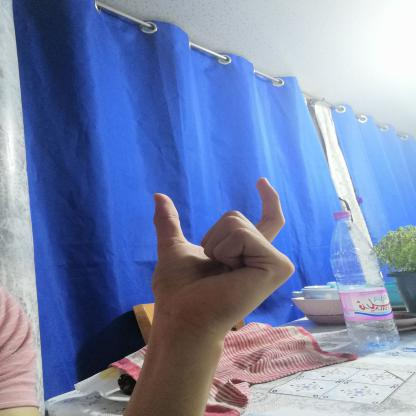NOON: (128, 164, 308, 343)
